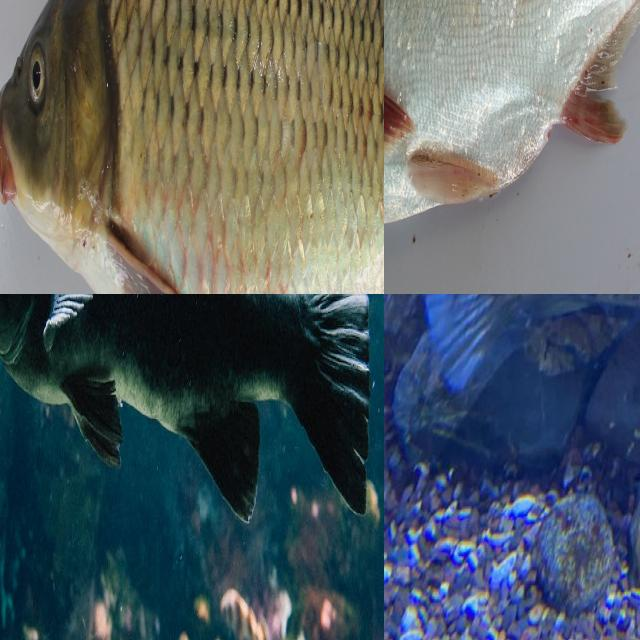fish: (0, 0, 384, 294), (0, 294, 306, 640), (384, 0, 640, 247), (418, 294, 640, 418)
